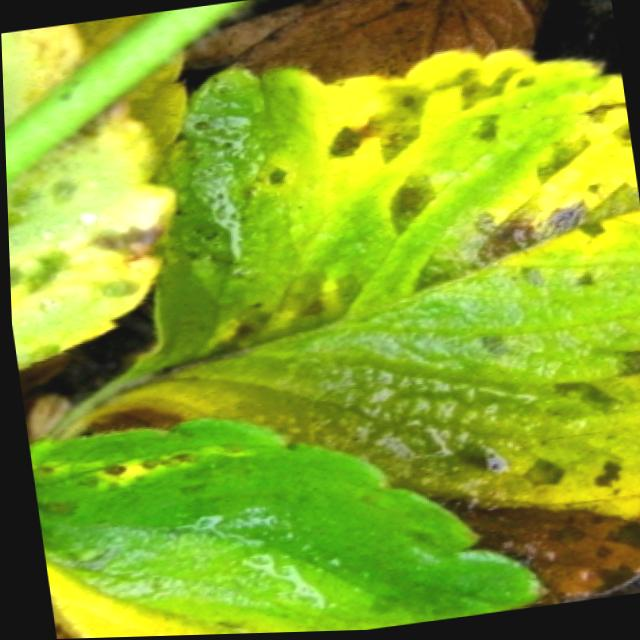Angular Leafspot: (86, 50, 640, 602), (25, 420, 542, 639), (1, 10, 185, 367)
